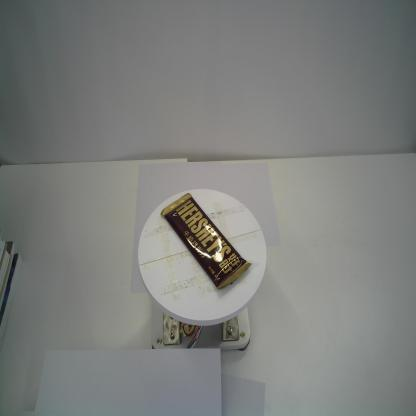Chocolate: (160, 192, 252, 292)
